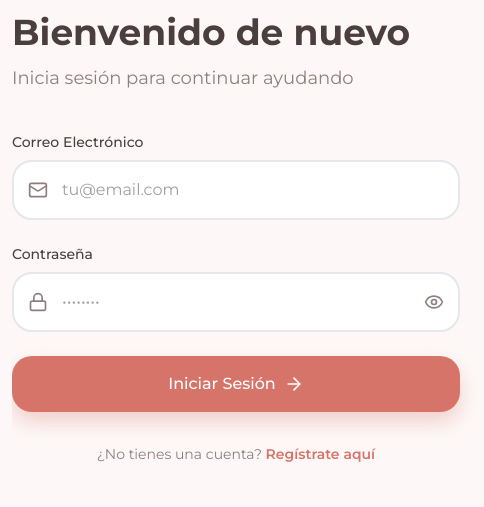
Scenario: LoginForm › muestra error de contraseña corta
Type "test@hadassa.com" into the field labelled "Correo Electrónico" at (236, 190), box top-left (12, 160), bottom-right (460, 220)
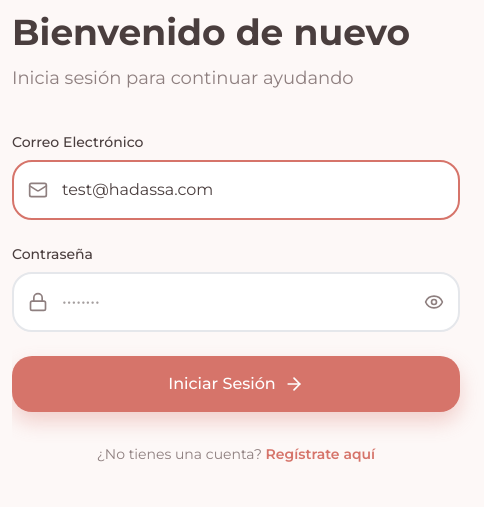
Type "123" into the password field labelled "Contraseña" at (236, 302), box top-left (12, 272), bottom-right (460, 332)
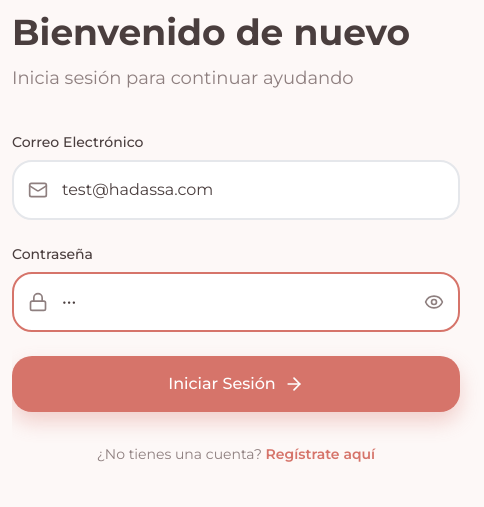
Submit the form "Correo Electrónico Contraseña Iniciar Sesión", box top-left (12, 132), bottom-right (460, 412)
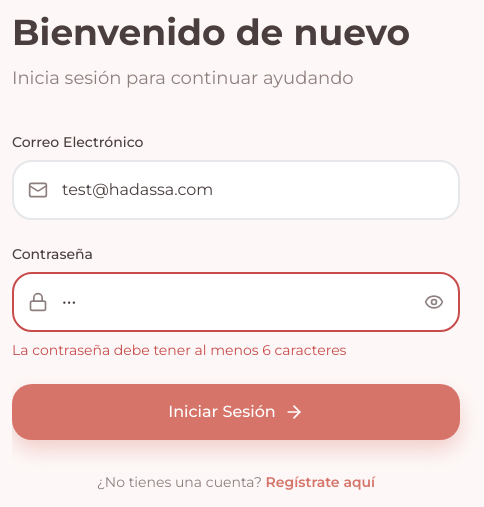
Check: the text "La contraseña debe tener al menos 6 caracteres" is shown, box top-left (12, 341), bottom-right (346, 359)
